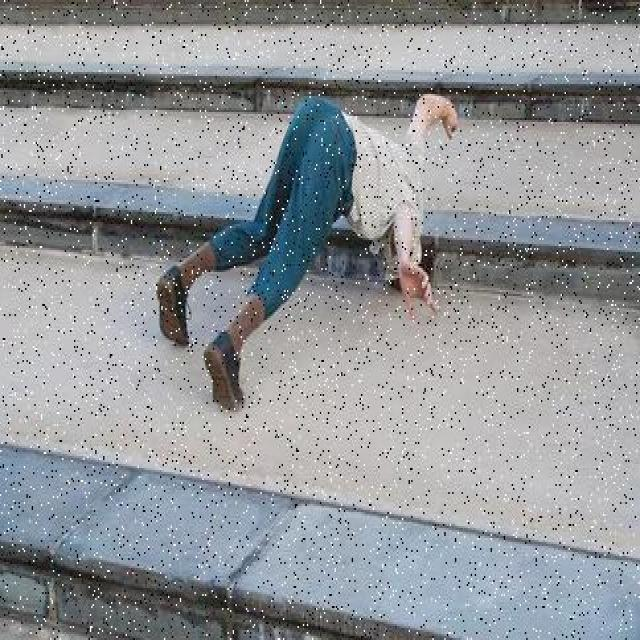fall: (162, 90, 462, 406)
